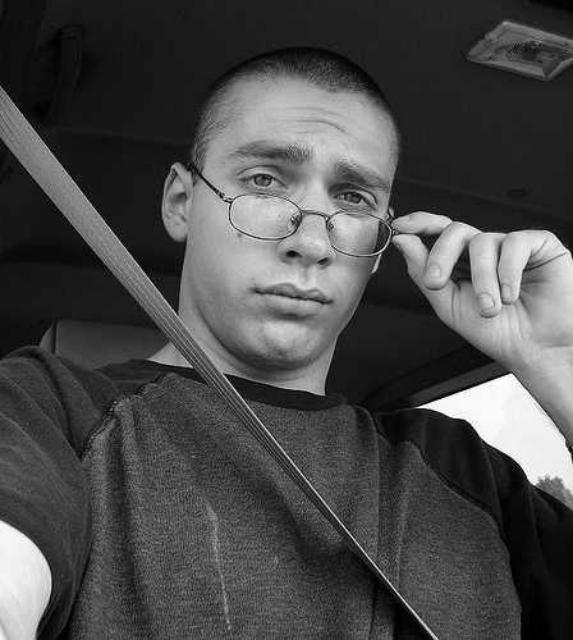SafeDriving: (234, 158, 292, 200), (326, 174, 381, 218)
Seatbelt: (1, 82, 446, 640)
